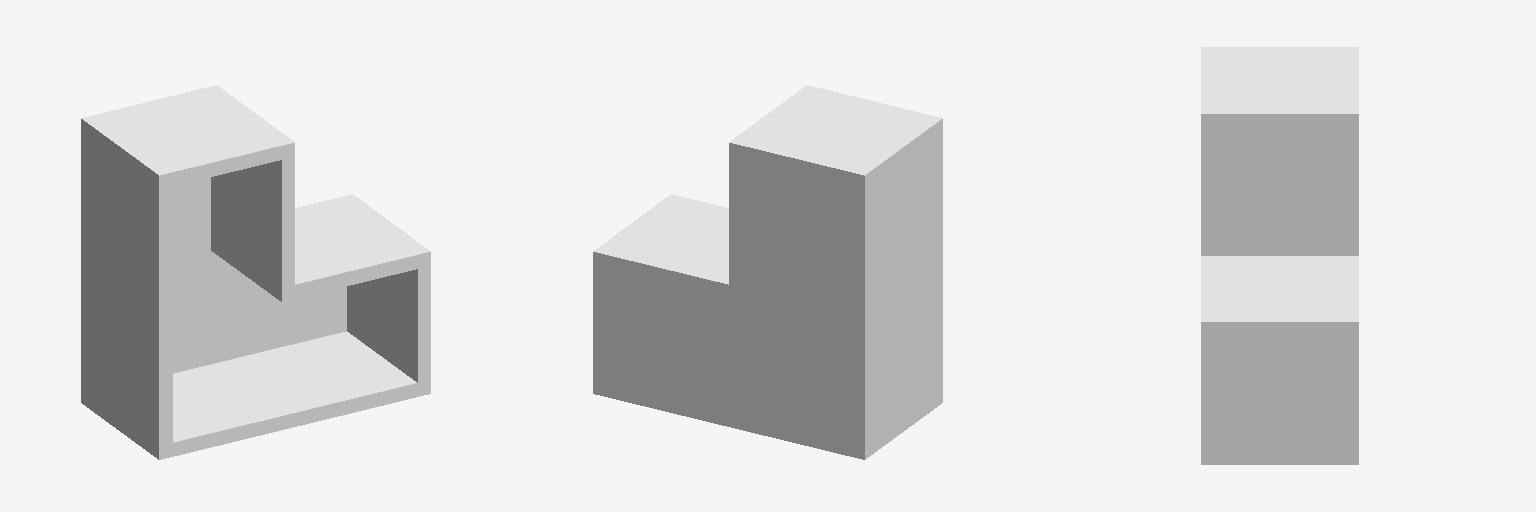
The model's file is LShapedRoom1.obj.
The picture shows the model from 3 angles: view 1: azimuth 30°, elevation 25°; view 2: azimuth 150°, elevation 25°; view 3: azimuth 270°, elevation 25°; orthographic projection.
Visible parts, largest first — view 1: LShapedRoom1; view 2: LShapedRoom1; view 3: LShapedRoom1.
Part boxes in pixels (bbox=[...]): LShapedRoom1: bbox=[81, 85, 430, 459]; LShapedRoom1: bbox=[593, 85, 942, 459]; LShapedRoom1: bbox=[1201, 47, 1358, 464].
Size of the model in its own units: 40 by 40 by 20.